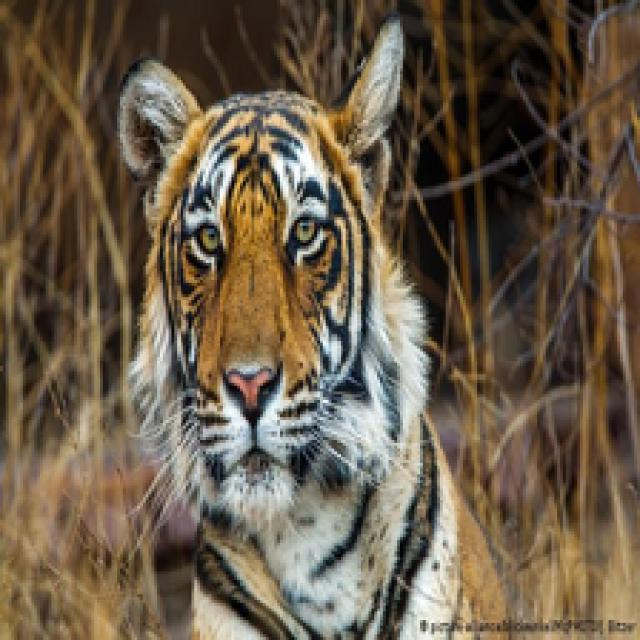tiger: (84, 9, 497, 640)
